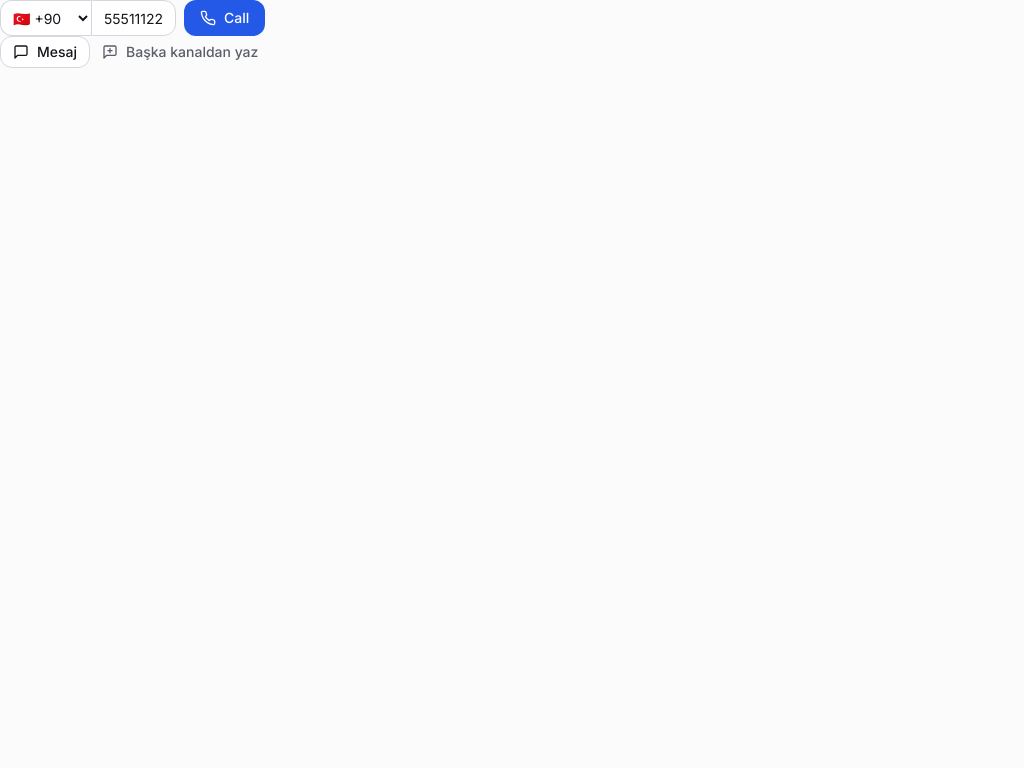
Test: LeadHeaderActions — Mesaj › does not offer WhatsApp for a first message — the window is shut and this dialog has no template field
Click the button "Mesaj" at (45,52), box [0,36,90,68]
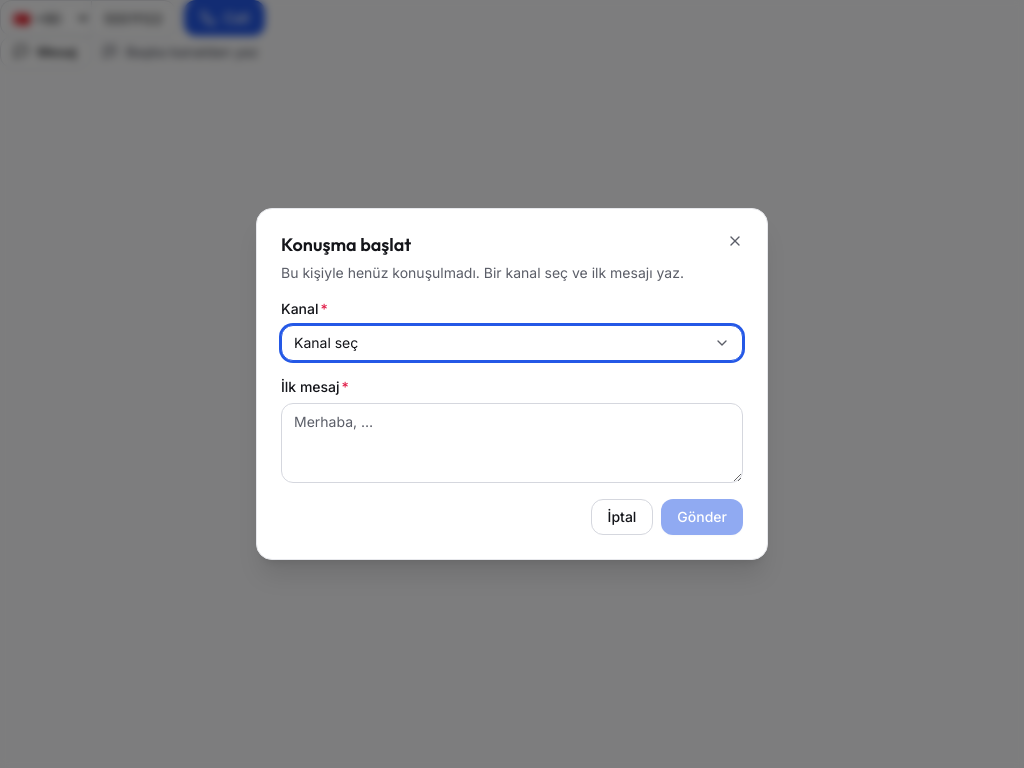
Click the dropdown at (326,342), box [281,325,743,361]
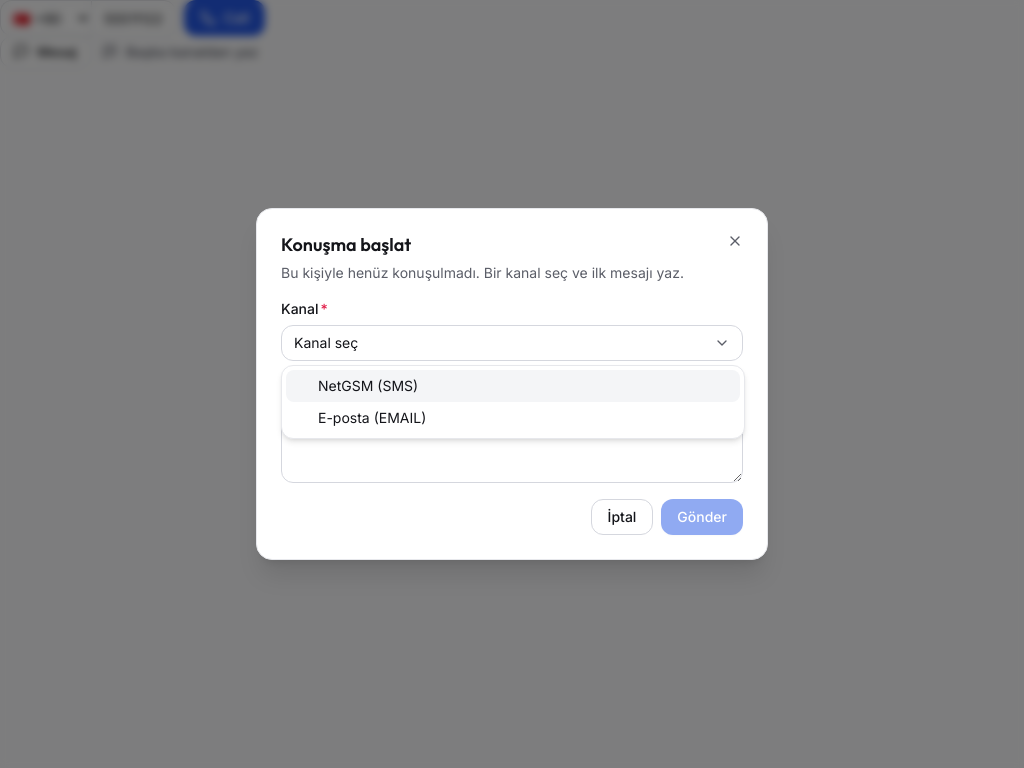
Expected: the list is shown, [281,365,745,439]
Expected: the option "NetGSM (SMS)" is shown, [286,370,740,402]
